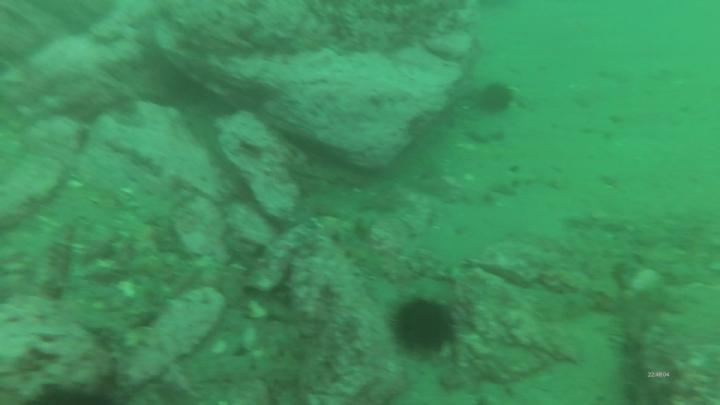echinus: (388, 294, 460, 361), (478, 79, 515, 117)
